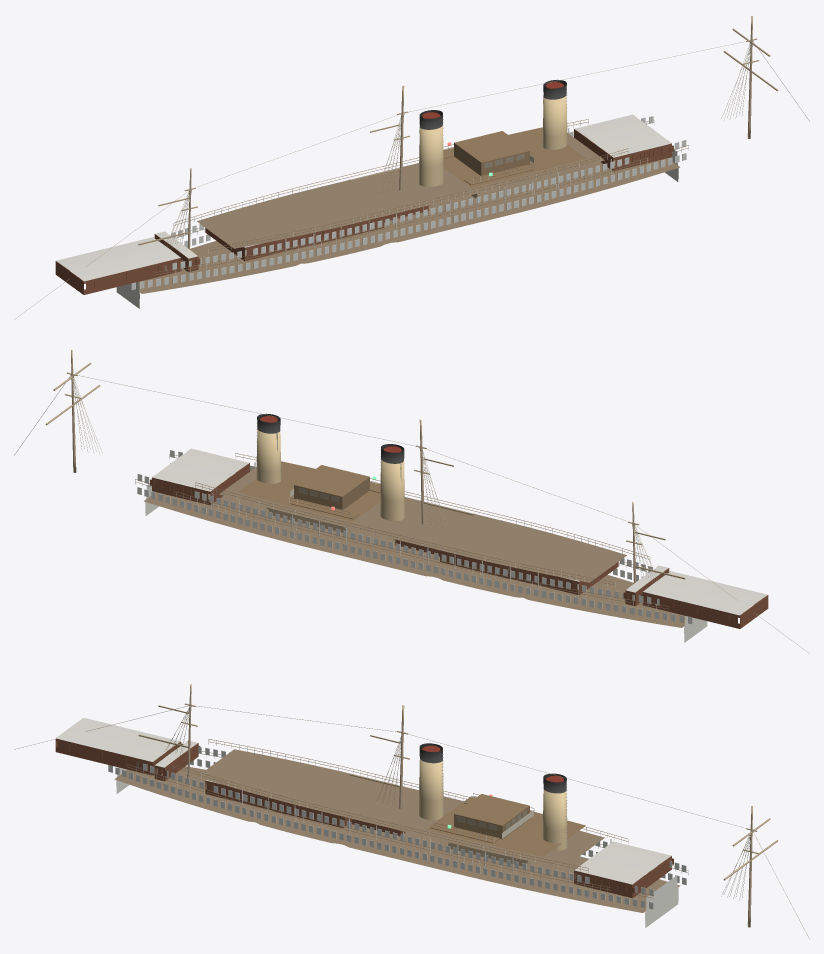
File: Superstructure.glb
3 views of the same model, one above another, from view 1: azimuth 30°, elevation 25°; view 2: azimuth 150°, elevation 25°; view 3: azimuth 330°, elevation 25° (orthographic).
Visible parts, largest first — view 1: BoatDeck, DeckHouse_Promenade, Decks_SaloonProm, DeckHouse_SaloonDeck, Bridge, Funnels, Rigging, Masts, Promenade_Rails; view 2: BoatDeck, DeckHouse_Promenade, Decks_SaloonProm, DeckHouse_SaloonDeck, Bridge, Funnels, Rigging, Masts, Promenade_Rails; view 3: BoatDeck, DeckHouse_Promenade, Decks_SaloonProm, DeckHouse_SaloonDeck, Bridge, Funnels, Masts, Rigging, Promenade_Rails.
Boxes of the visible parts, box(x1,y1,x2,y2) form: BoatDeck: box(173, 119, 628, 253); DeckHouse_Promenade: box(55, 114, 673, 294); Decks_SaloonProm: box(138, 148, 679, 293); DeckHouse_SaloonDeck: box(116, 116, 686, 308); Bridge: box(443, 127, 585, 187); Funnels: box(419, 79, 567, 186); Rigging: box(14, 41, 809, 319); Masts: box(138, 14, 778, 249); Promenade_Rails: box(154, 120, 688, 275); BoatDeck: box(195, 453, 650, 587); DeckHouse_Promenade: box(150, 448, 768, 628); Decks_SaloonProm: box(144, 482, 685, 627); DeckHouse_SaloonDeck: box(137, 450, 707, 642); Bridge: box(238, 461, 380, 521); Funnels: box(256, 413, 404, 520); Rigging: box(14, 375, 809, 653); Masts: box(45, 348, 685, 583); Promenade_Rails: box(135, 454, 669, 609); BoatDeck: box(173, 739, 628, 873); DeckHouse_Promenade: box(55, 718, 673, 898); Decks_SaloonProm: box(114, 766, 680, 912); DeckHouse_SaloonDeck: box(108, 743, 686, 927); Bridge: box(426, 793, 585, 856); Funnels: box(419, 743, 567, 850); Masts: box(138, 682, 777, 927); Rigging: box(14, 705, 809, 939); Promenade_Rails: box(126, 751, 688, 900).
Size of the model in its own units: 164 by 29.4 by 19.
